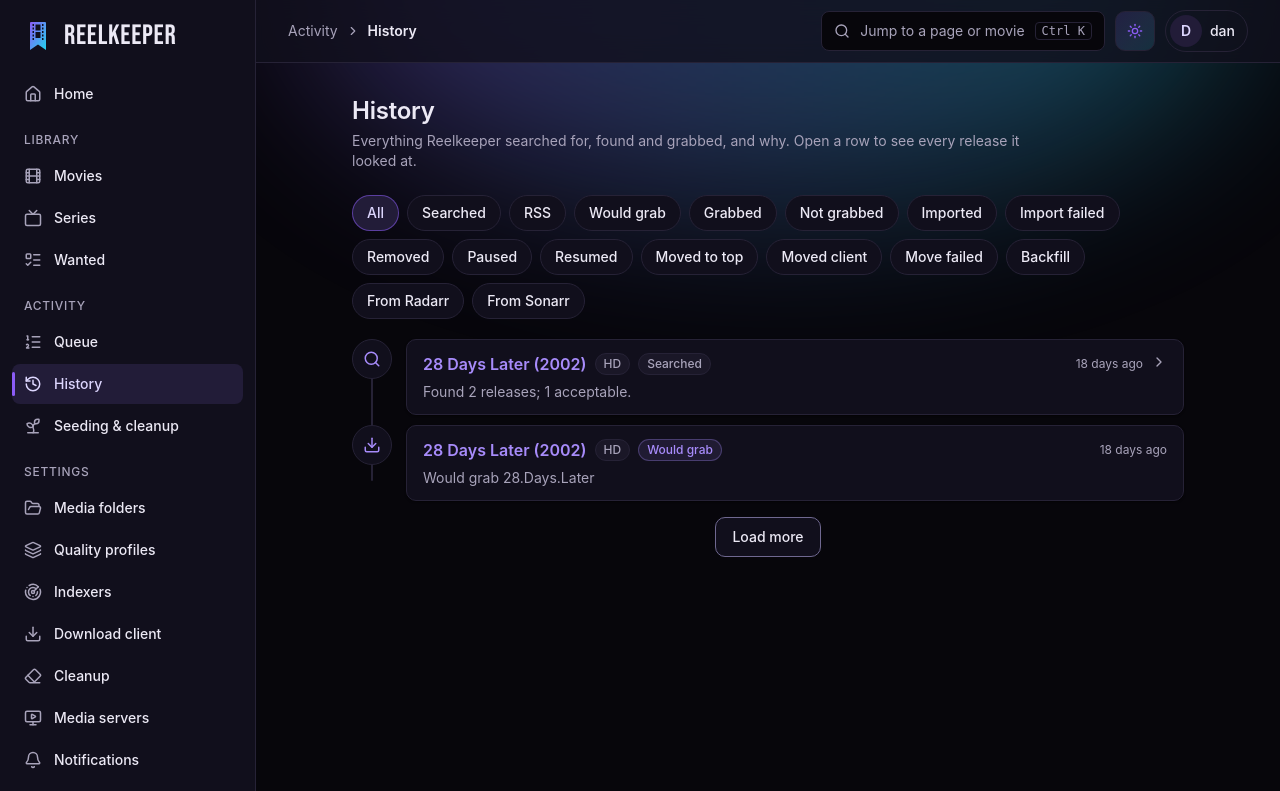
History page › opens a search to show each release and why it was rejected
Check: the list item "Found 2 releases; 1 acceptable." is shown, box 423,383 -> 631,400
Click the button named "Show details" at (1159,362), box 1151,354 -> 1167,370
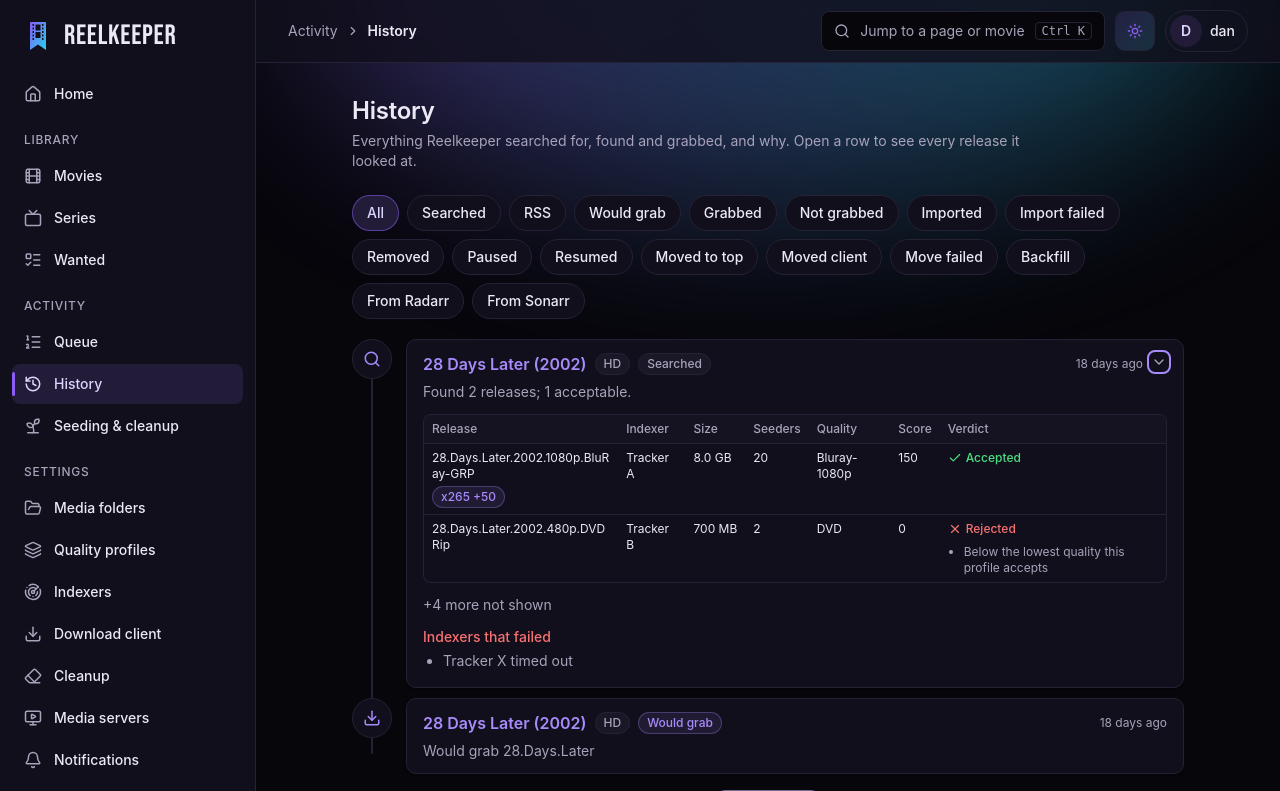
Check: the text "28.Days.Later.2002.1080p.BluRay-GRP" is shown, box 432,450 -> 609,481
Check: the text "8.0 GB" is shown, box 686,444 -> 745,514
Check: the text "x265 +50" is shown, box 432,486 -> 505,508
